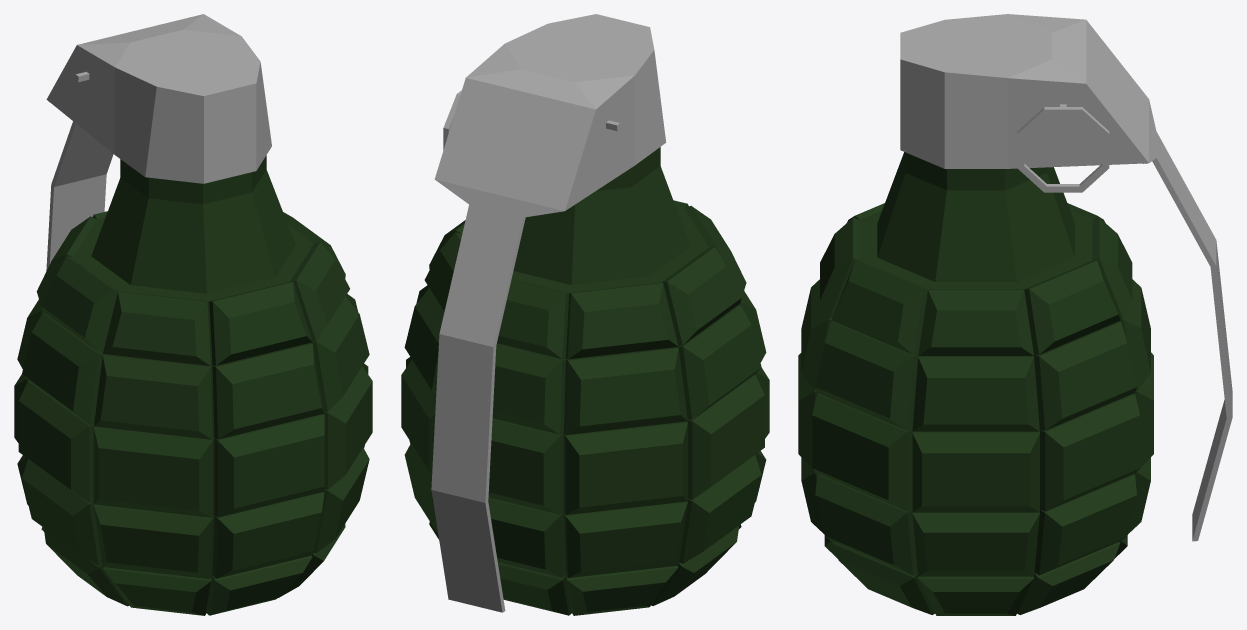
File: Grenade.fbx
The picture shows the model from 3 angles, left to right: view 1: azimuth 30°, elevation 25°; view 2: azimuth 150°, elevation 25°; view 3: azimuth 270°, elevation 25°; orthographic projection. The views are drawn at different scales.
Parts seen in each view (by area): view 1: Grenade; view 2: Grenade; view 3: Grenade.
Boxes of the visible parts, x1,y1,x2,y2 form: Grenade: (14,14,372,615); Grenade: (401,14,769,615); Grenade: (798,14,1232,615).
Bounding box in the file's own units: 8.02 × 13.11 × 9.79.
